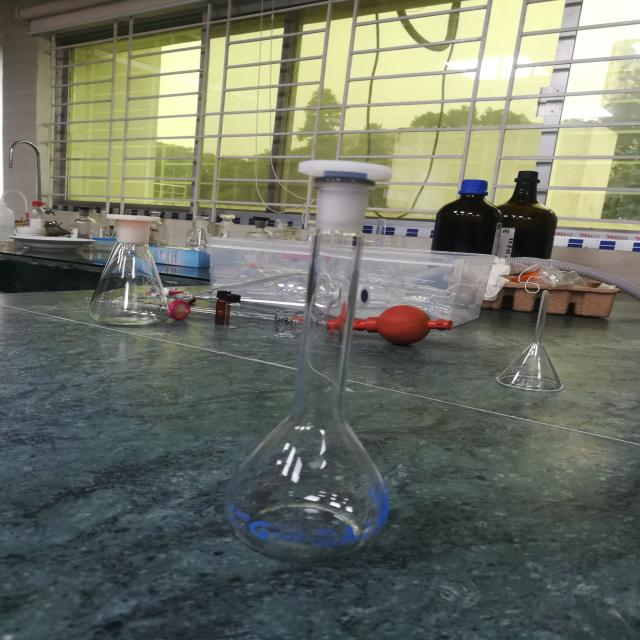Conical_Flask: (59, 179, 182, 341)
Funnel: (480, 263, 586, 421)
Volumetric_Flask: (233, 108, 416, 577)
